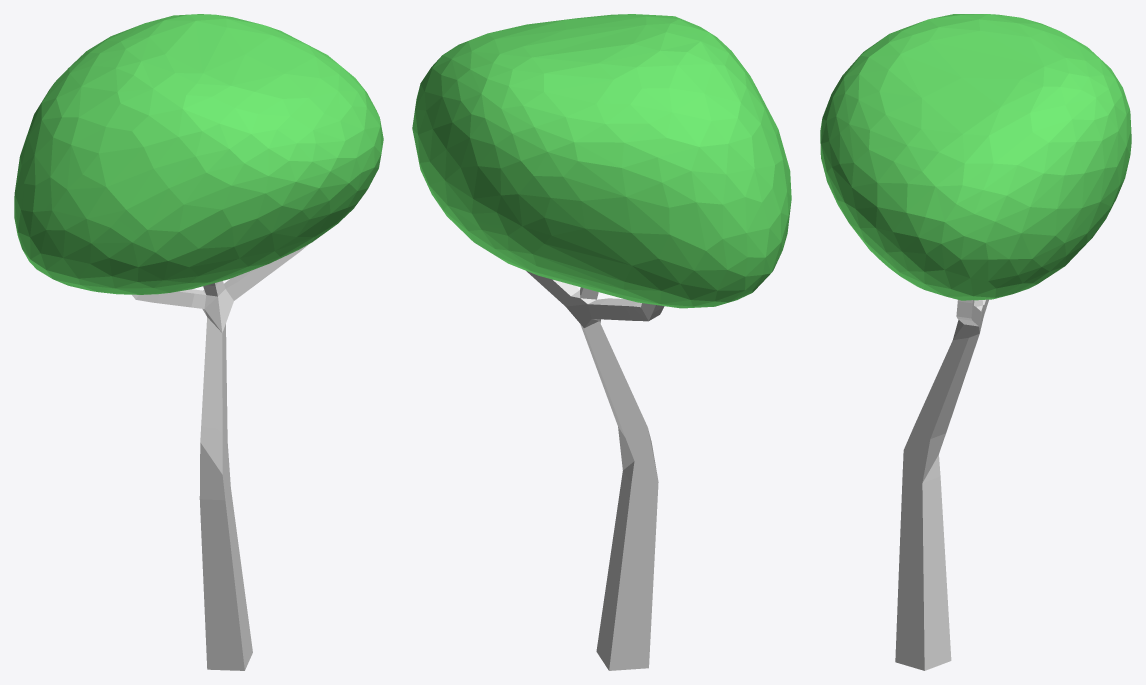
The model's file is lowtree3 (2).fbx.
3 renders of one model, left to right at view 1: azimuth 30°, elevation 25°; view 2: azimuth 150°, elevation 25°; view 3: azimuth 270°, elevation 25°, orthographic. The views are drawn at different scales.
Parts seen in each view (by area): view 1: Icosphere.001; view 2: Icosphere.001; view 3: Icosphere.001.
Boxes of the visible parts, x1,y1,x2,y2 form: Icosphere.001: (14,14,383,670); Icosphere.001: (412,14,791,670); Icosphere.001: (820,14,1131,670).
Bounding box in the file's own units: 85.92 × 147 × 67.73.
